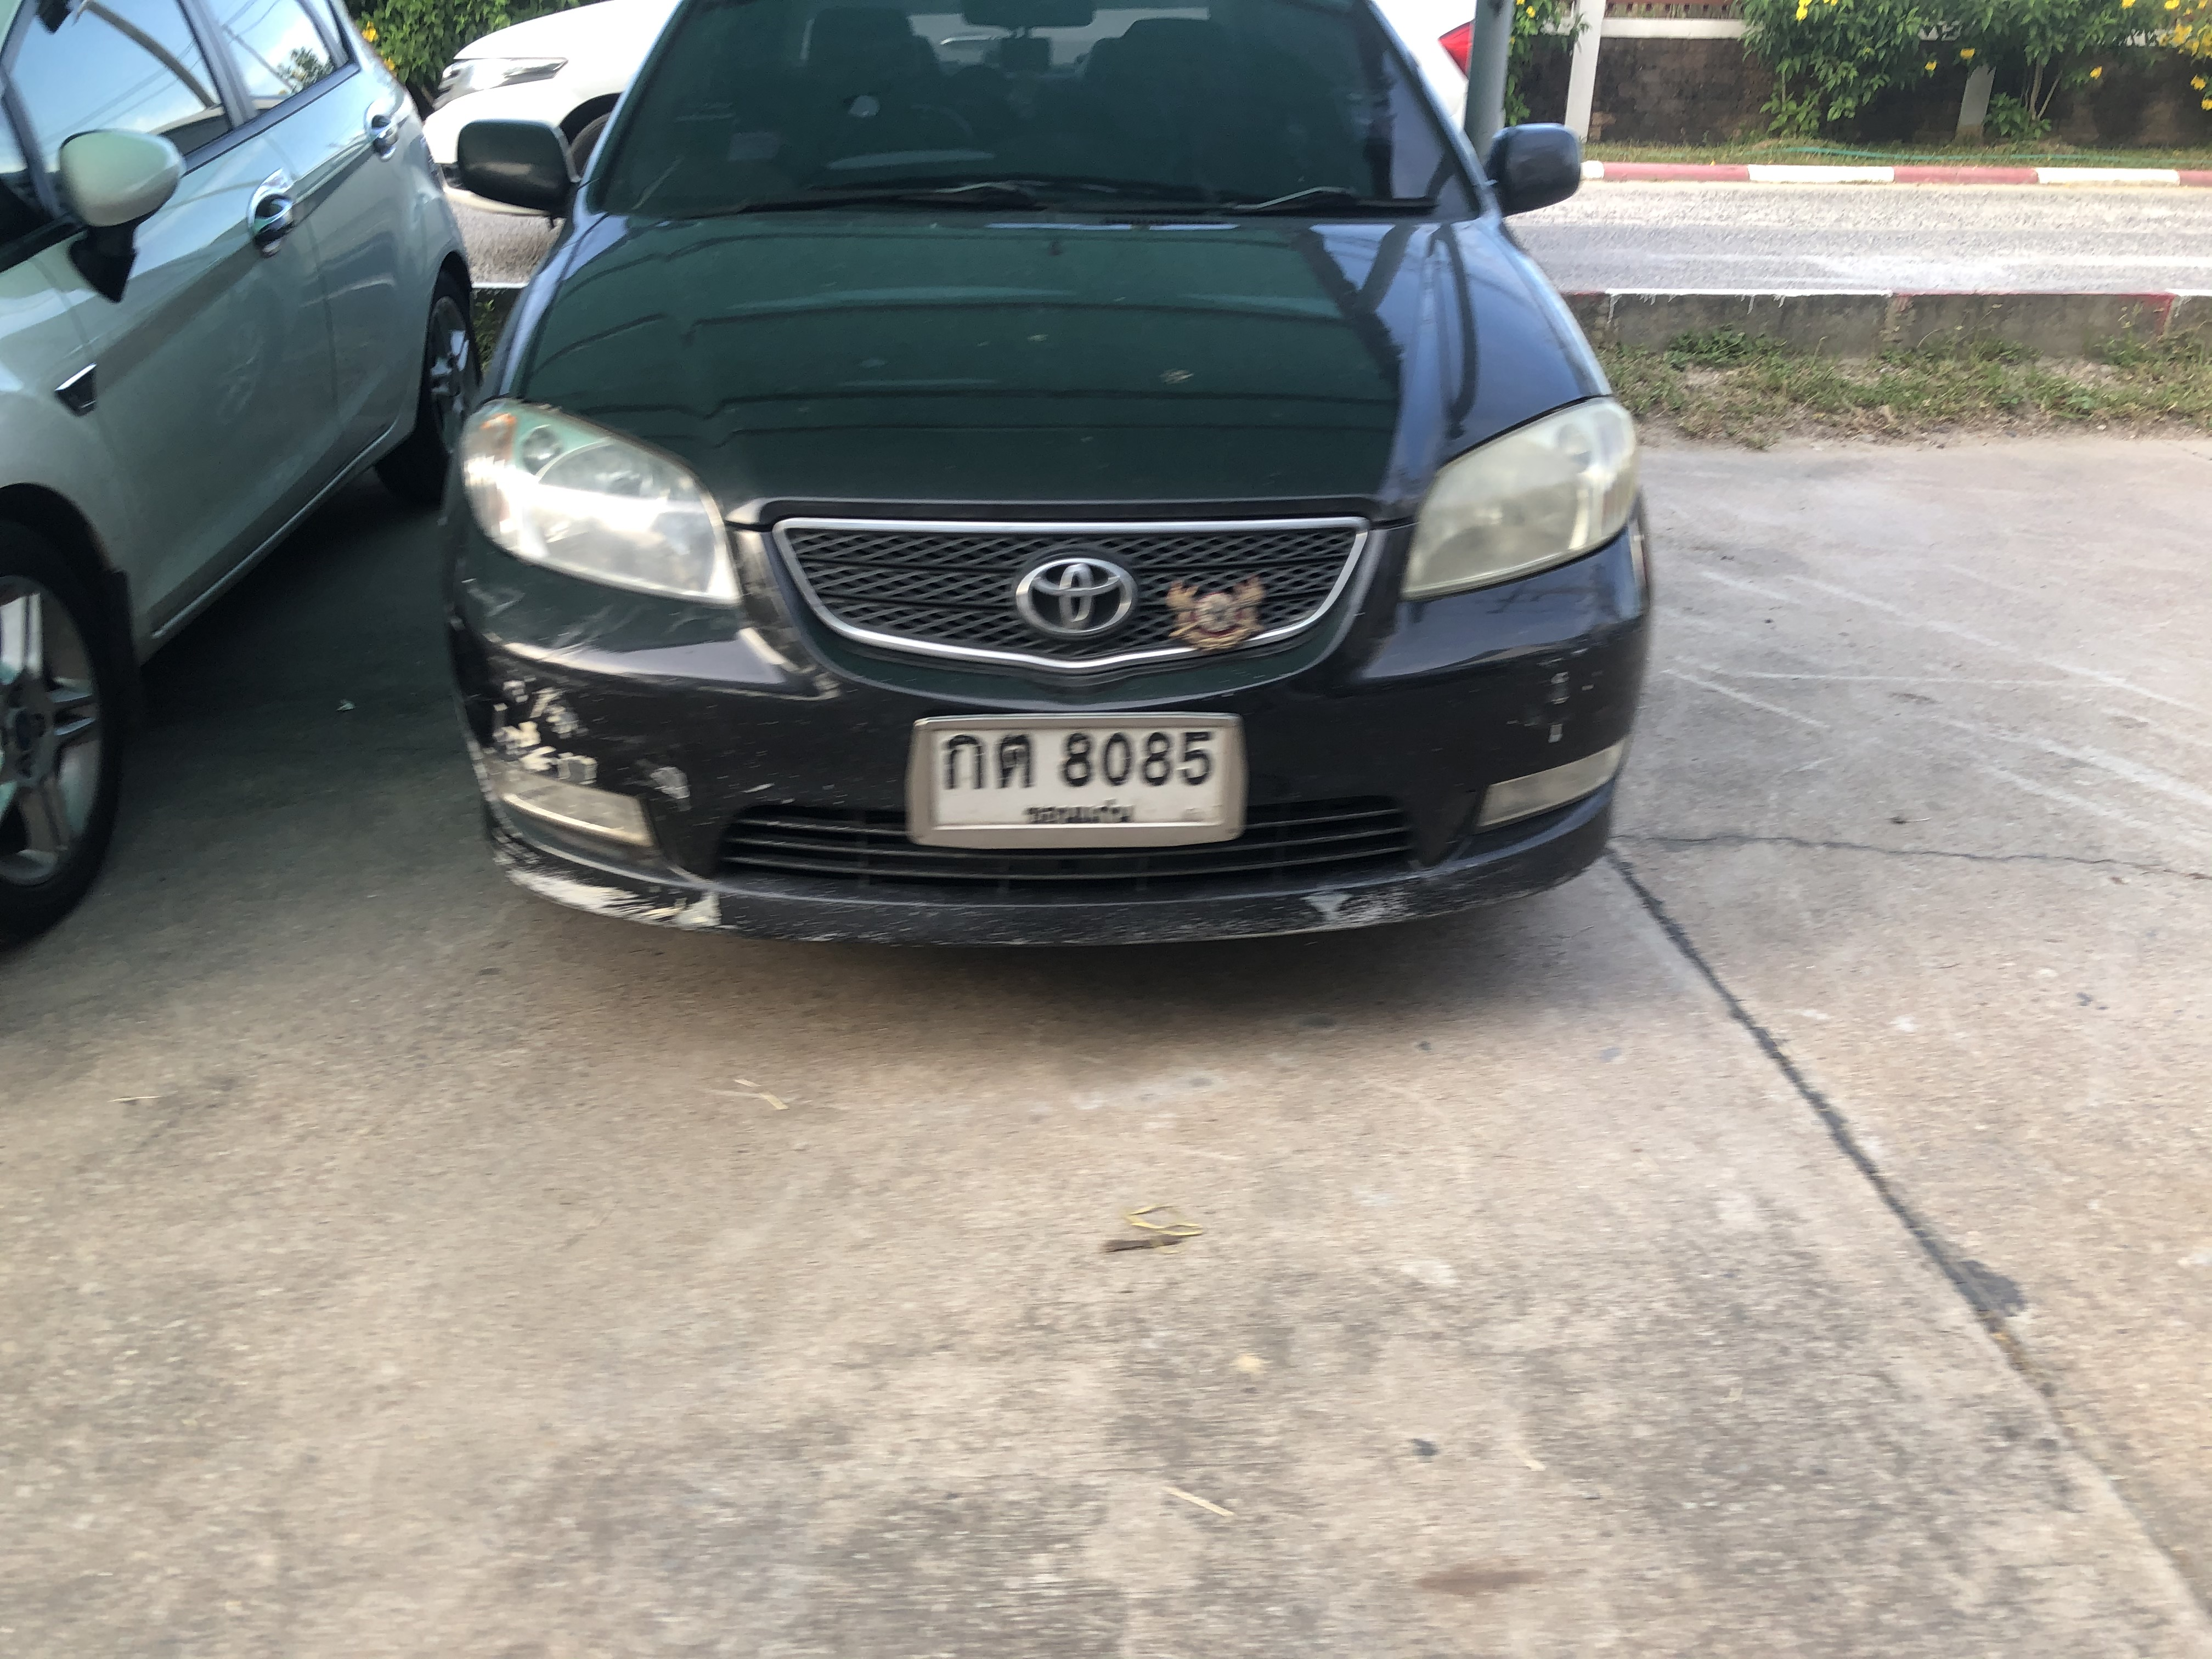in: (937, 732, 1223, 830)
out: (900, 711, 1247, 849)
